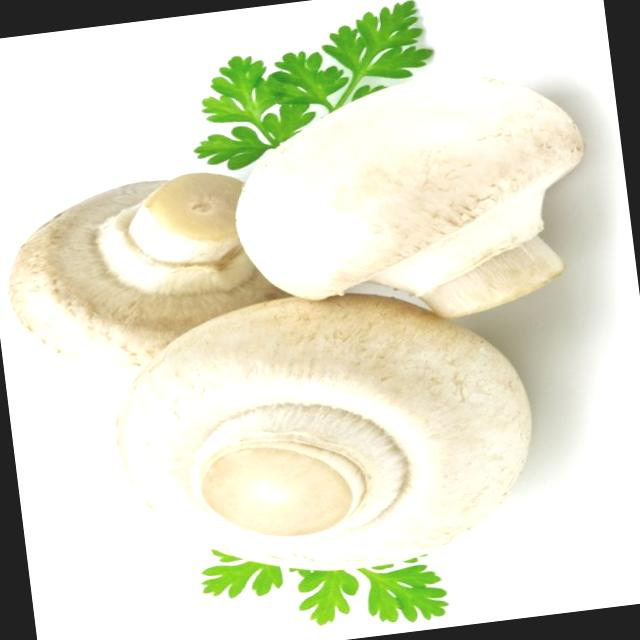Agaricus bisporus: (101, 274, 548, 595), (222, 60, 604, 339), (0, 147, 264, 399)
